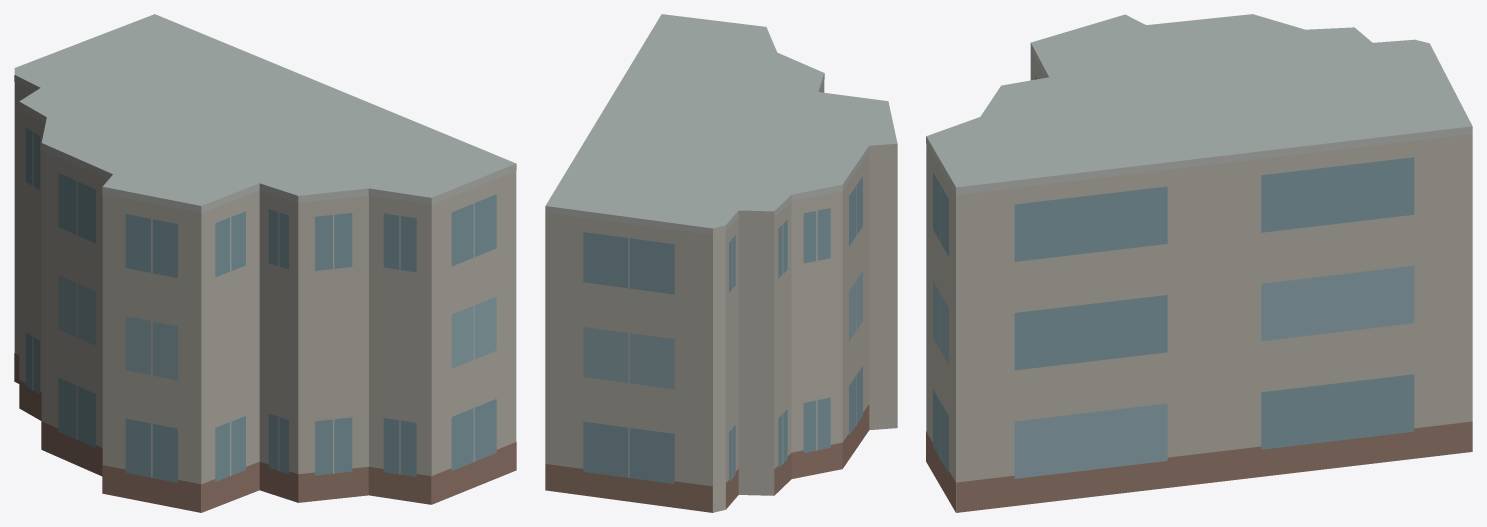
File: survey-upis-32981472.glb
3 renders of one model, left to right at view 1: azimuth 30°, elevation 25°; view 2: azimuth 150°, elevation 25°; view 3: azimuth 270°, elevation 25°, orthographic. The views are drawn at different scales.
Parts seen in each view (by area): view 1: survey-upis-32981472.tmp; view 2: survey-upis-32981472.tmp; view 3: survey-upis-32981472.tmp.
Boxes of the visible parts, <box> form: survey-upis-32981472.tmp: <box>14,14,516,512</box>; survey-upis-32981472.tmp: <box>545,14,897,512</box>; survey-upis-32981472.tmp: <box>926,14,1472,512</box>.
Size of the model in its own units: 12 by 10.5 by 15.99.
